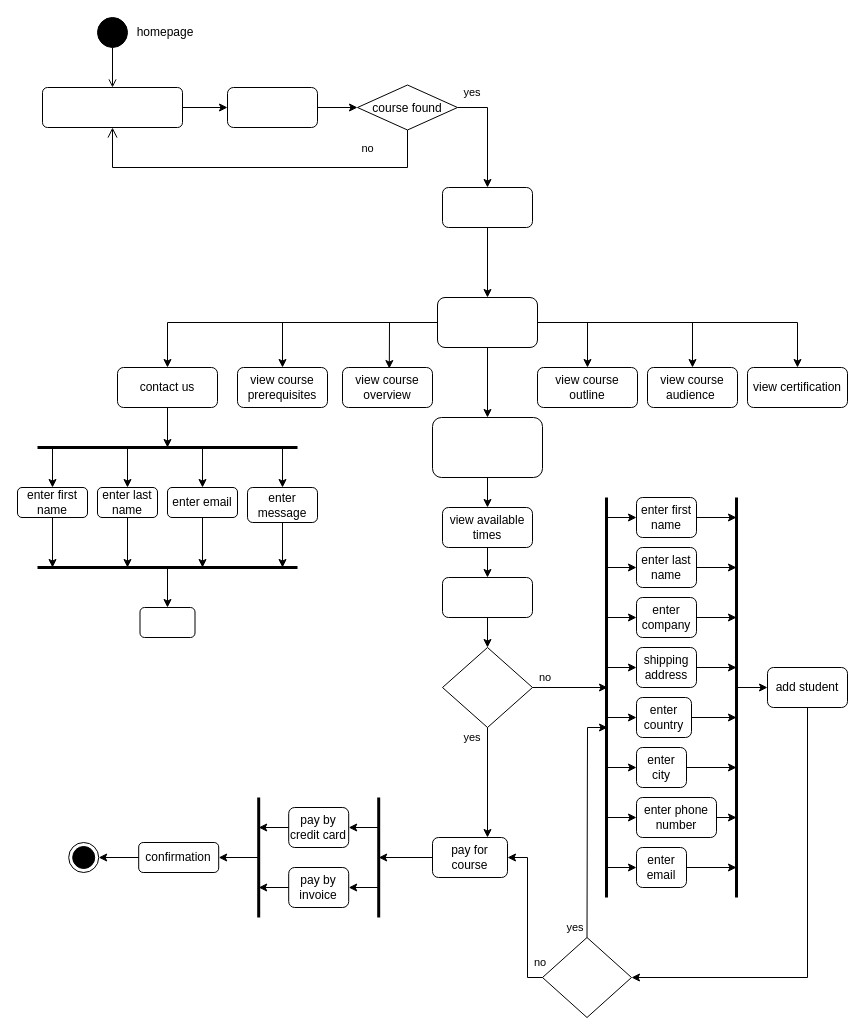
The diagram is 865 pixels wide and 1035 high, and some of its shapes have lost their labels. The shapes that lost their labels are listed below. From the top down, each one's centre as x and y in pixels, then its label:
the point at 112,107: type course in search bar
the point at 272,107: view courses
the point at 487,207: select course
the point at 487,322: view course details
the point at 487,447: view instructor-led virtual classes
the point at 487,597: select suitable time
the point at 167,622: submit
the point at 487,687: students information exists
the point at 587,977: add another student
